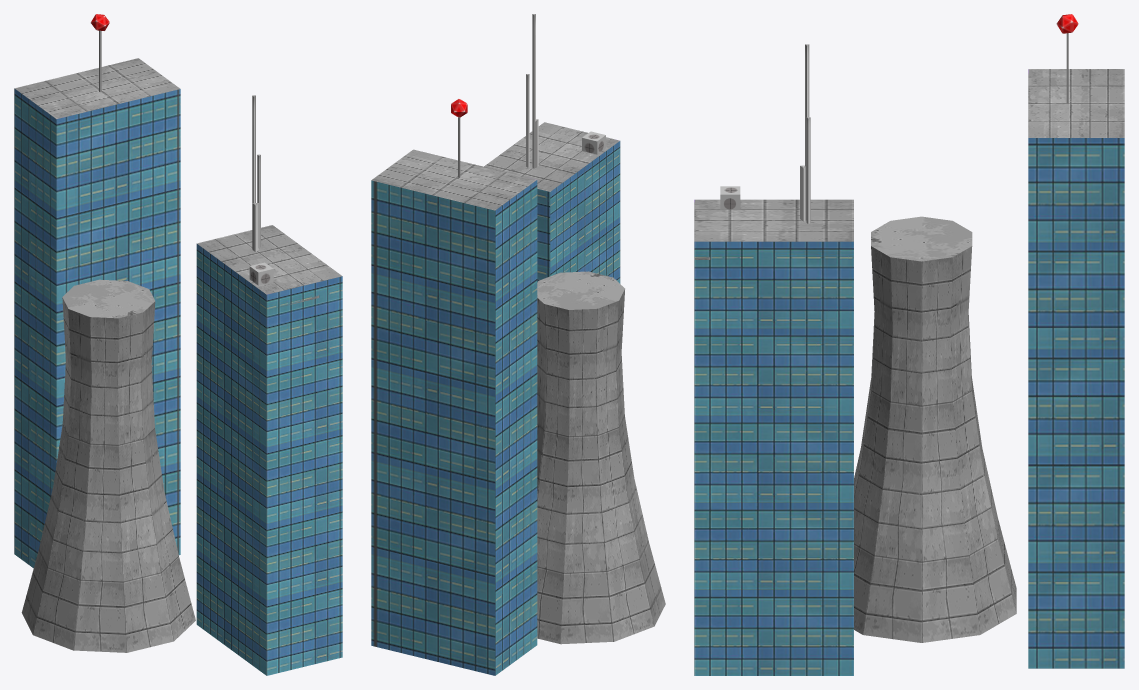
Rendered from City.fbx.
3 views of the same model, side by side, from view 1: azimuth 30°, elevation 25°; view 2: azimuth 150°, elevation 25°; view 3: azimuth 270°, elevation 25° (orthographic). The views are drawn at different scales.
Visible parts, largest first — view 1: pCube5; view 2: pCube5; view 3: pCube5.
Boxes of the visible parts, bbox=[...] form: pCube5: bbox=[14, 14, 342, 675]; pCube5: bbox=[371, 14, 665, 675]; pCube5: bbox=[694, 14, 1124, 675].
Size of the model in its own units: 13.83 by 34.17 by 21.55.
